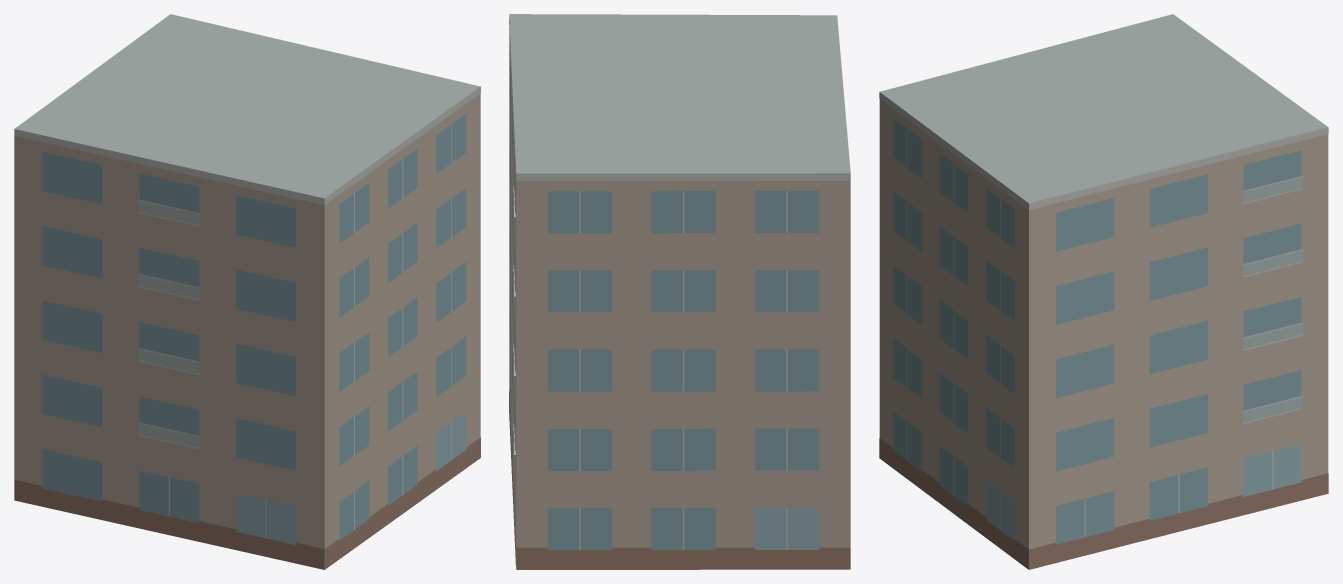
Rendered from survey-upis-32532059.glb.
The picture shows the model from 3 angles, left to right: view 1: azimuth 30°, elevation 25°; view 2: azimuth 150°, elevation 25°; view 3: azimuth 270°, elevation 25°; orthographic projection. The views are drawn at different scales.
Parts seen in each view (by area): view 1: survey-upis-32532059.tmp; view 2: survey-upis-32532059.tmp; view 3: survey-upis-32532059.tmp.
Boxes of the visible parts, x1,y1,x2,y2 form: survey-upis-32532059.tmp: [14, 14, 480, 569]; survey-upis-32532059.tmp: [509, 14, 850, 569]; survey-upis-32532059.tmp: [879, 14, 1328, 569].
Size of the model in its own units: 14.64 by 13.2 by 14.66.
